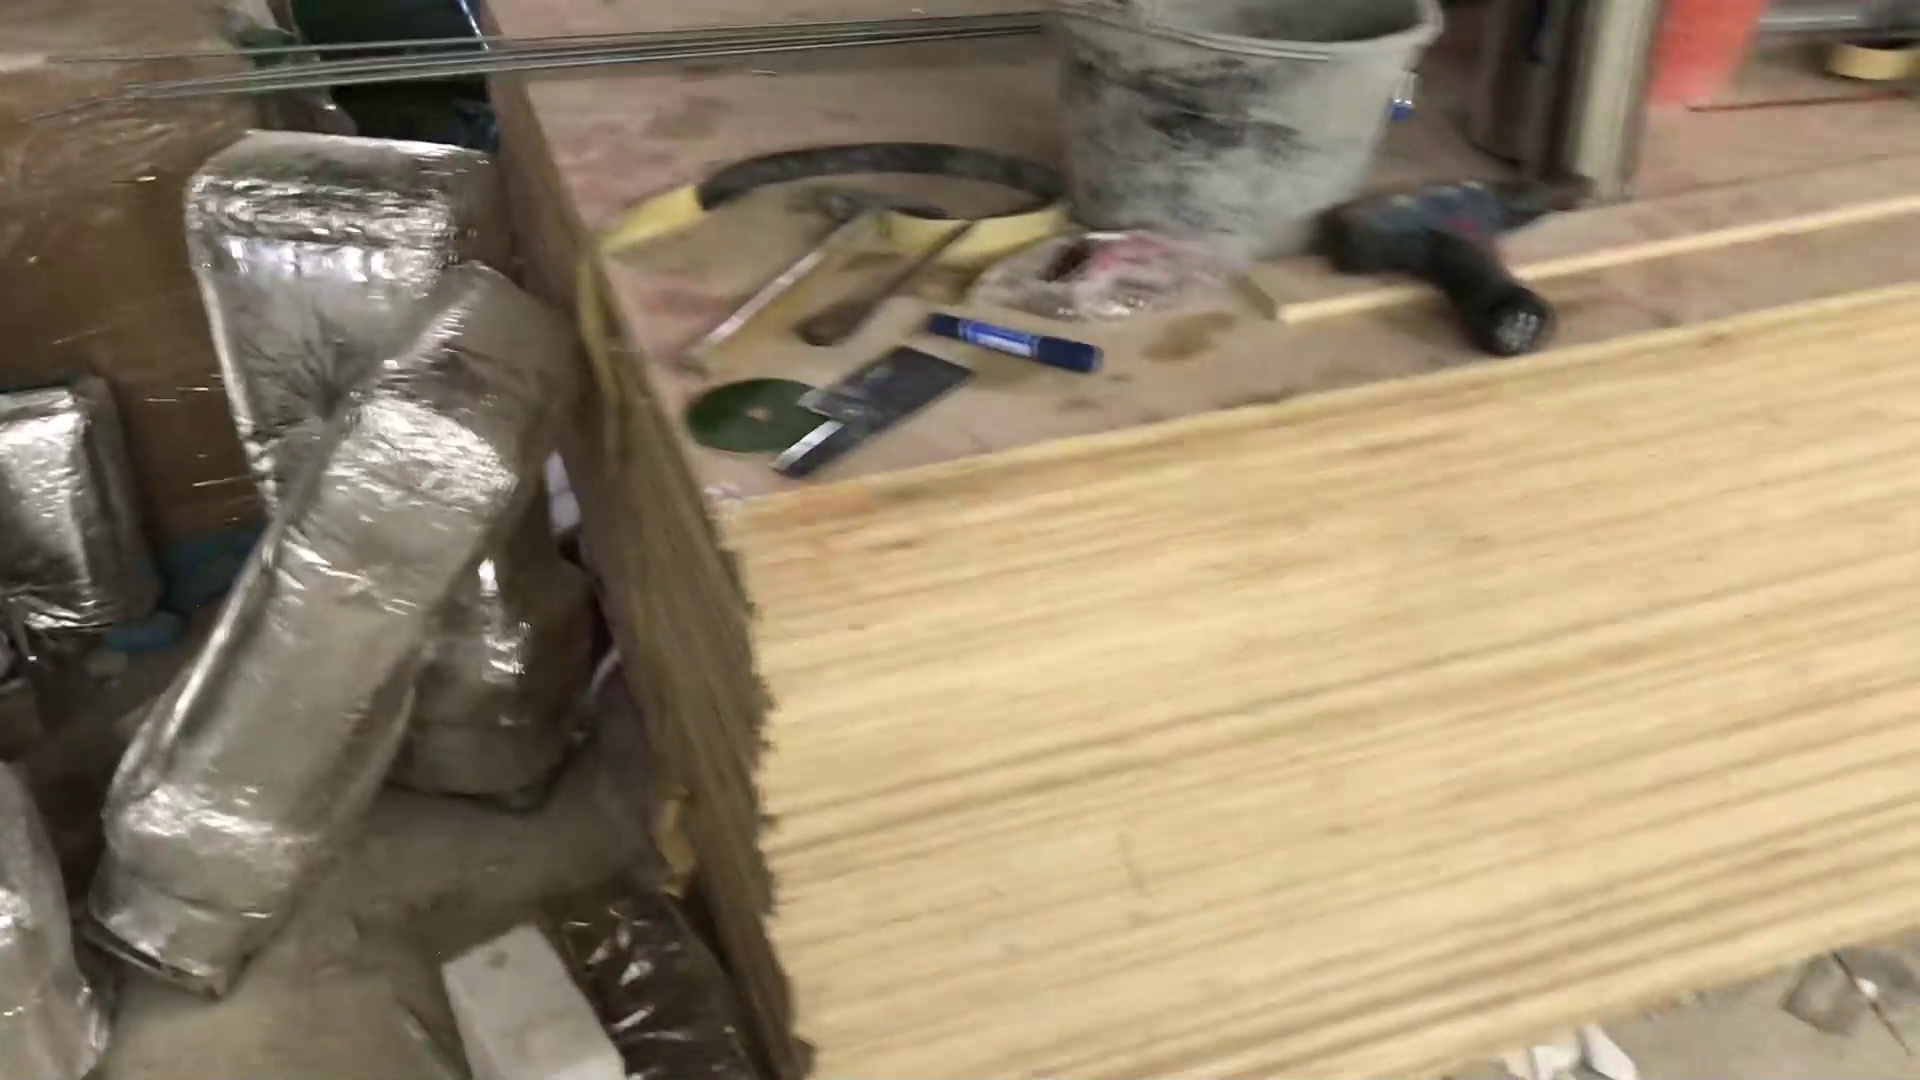board: (465, 1, 1907, 1076)
